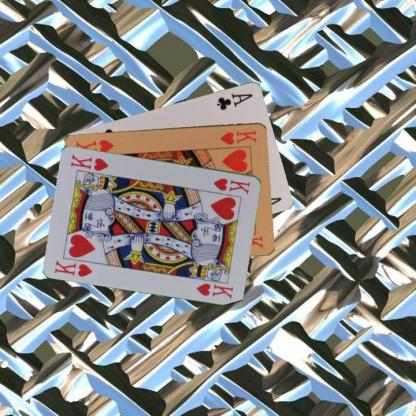Ac: (214, 90, 254, 112)
Kh: (52, 257, 94, 278), (211, 175, 251, 195), (218, 127, 258, 146)
